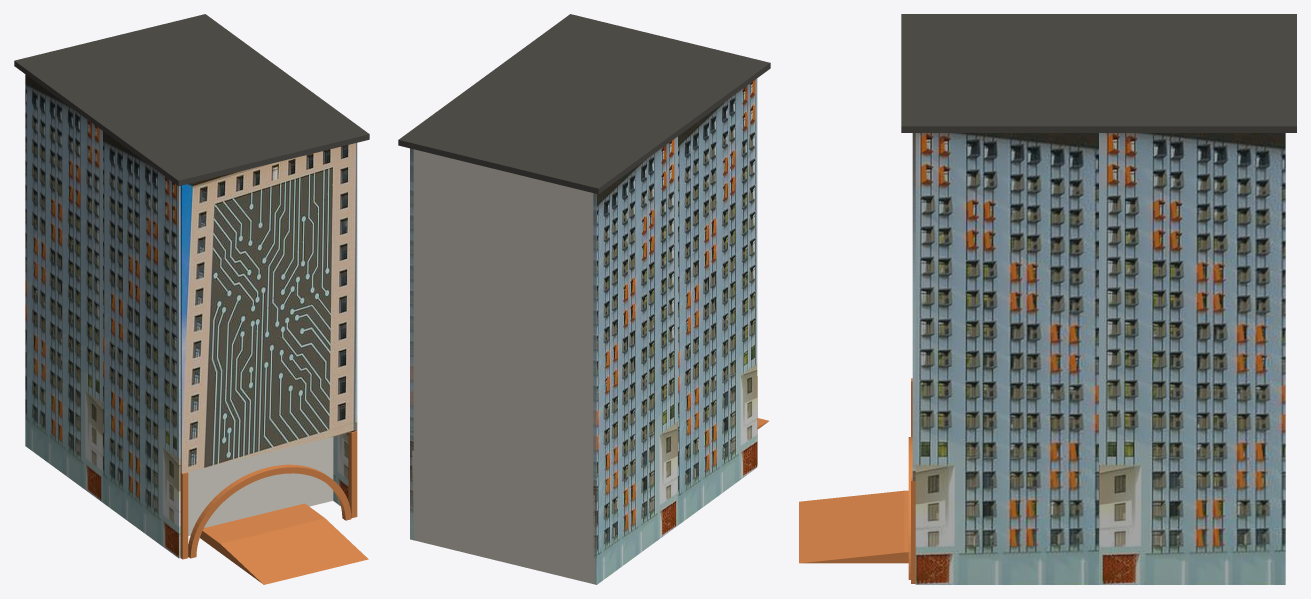
File: tech-park-2.glb
3 renders of one model, left to right at view 1: azimuth 30°, elevation 25°; view 2: azimuth 150°, elevation 25°; view 3: azimuth 270°, elevation 25°, orthographic. The views are drawn at different scales.
Parts seen in each view (by area): view 1: TechPark2; view 2: TechPark2; view 3: TechPark2.
Boxes of the visible parts, left/top/right/bottom form: TechPark2: left=14, top=14, right=369, bottom=584; TechPark2: left=398, top=14, right=770, bottom=584; TechPark2: left=799, top=14, right=1296, bottom=584.
Size of the model in its own units: 32.8 by 62.9 by 61.4.
5 materials, 2 textured.
